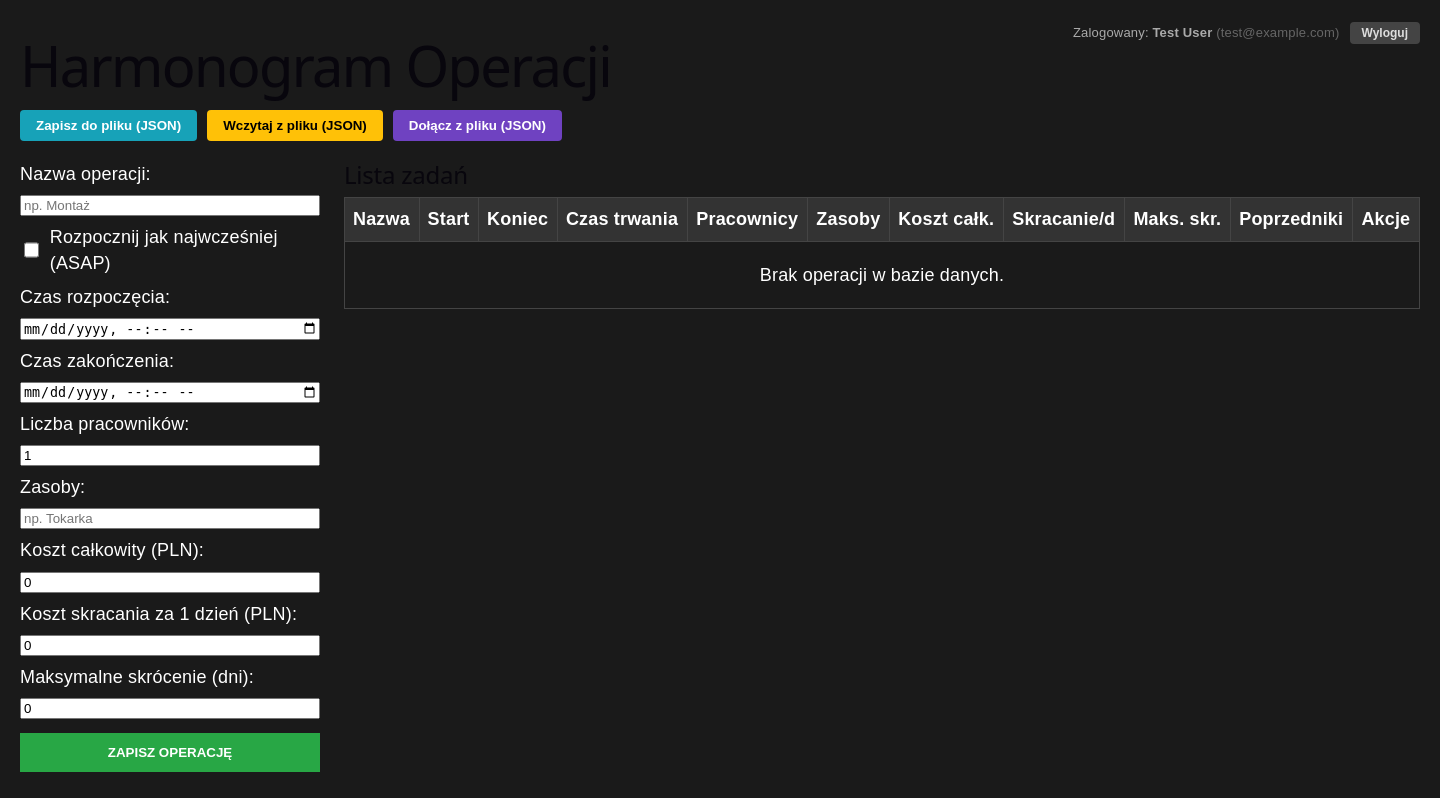
Test: App › switches the form into ASAP mode
The image size is (1440, 798).
What coordinates should you click on to do the following:
click the checkbox
I would click on:
 (31, 250)
Its box is [24, 242, 39, 258].
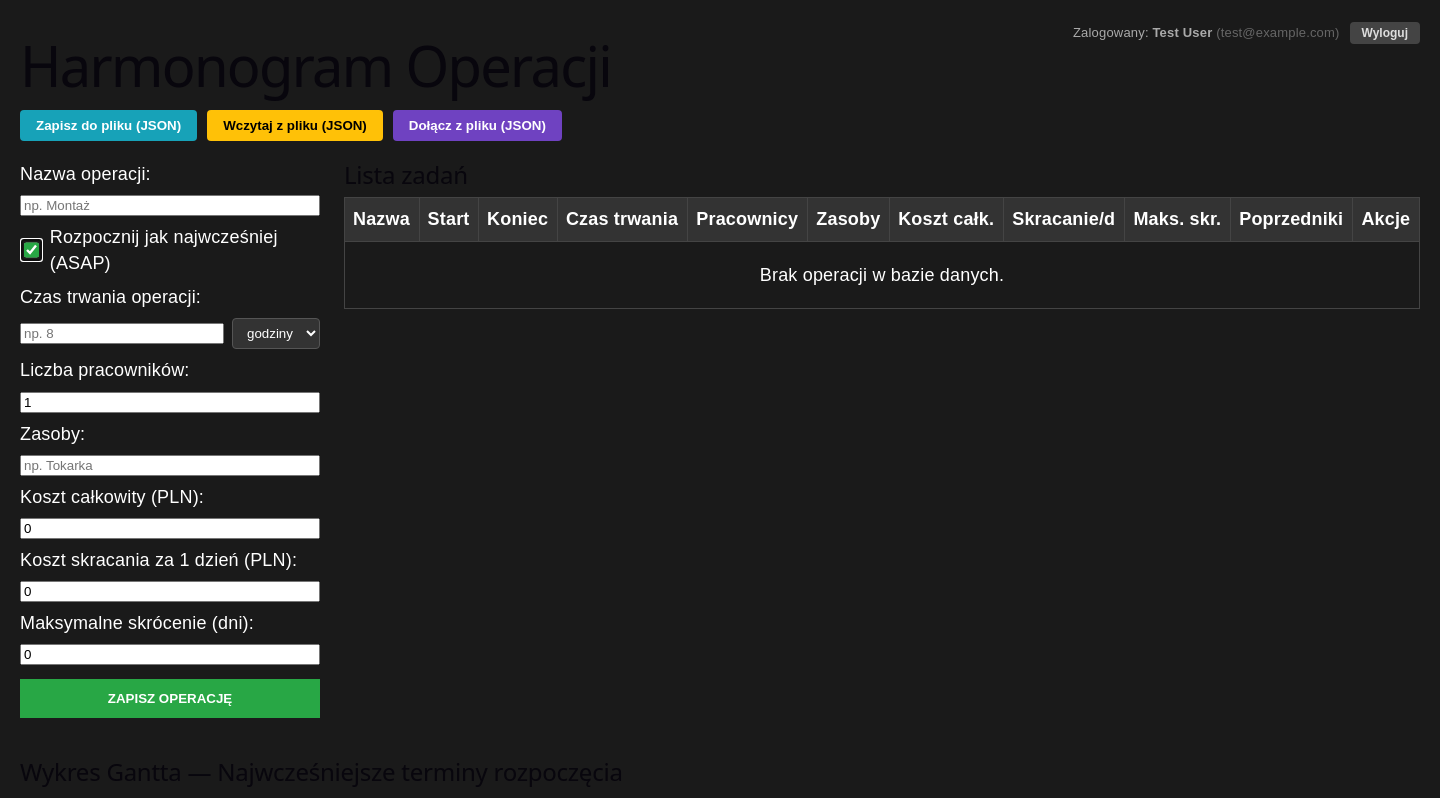
Expected: the text "Czas trwania operacji:" is shown, [20, 287, 201, 307]
Expected: the text "Czas rozpoczęcia:" is gone
Expected: the text "Czas zakończenia:" is gone
